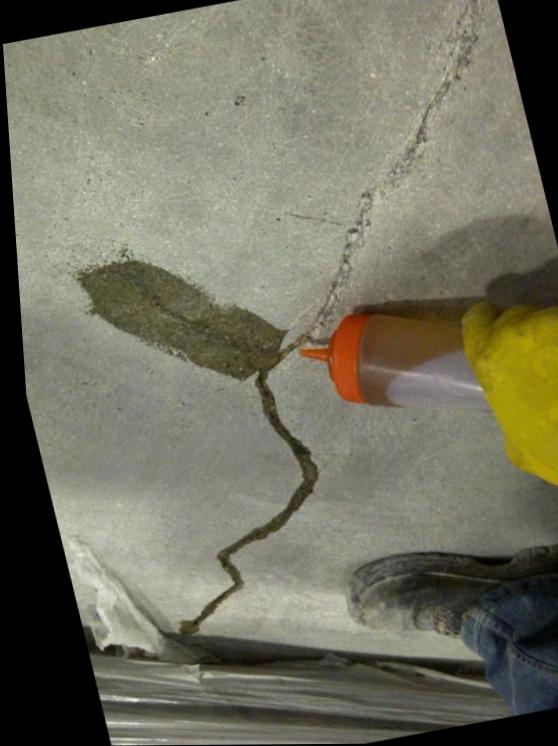crack: (170, 0, 479, 636)
